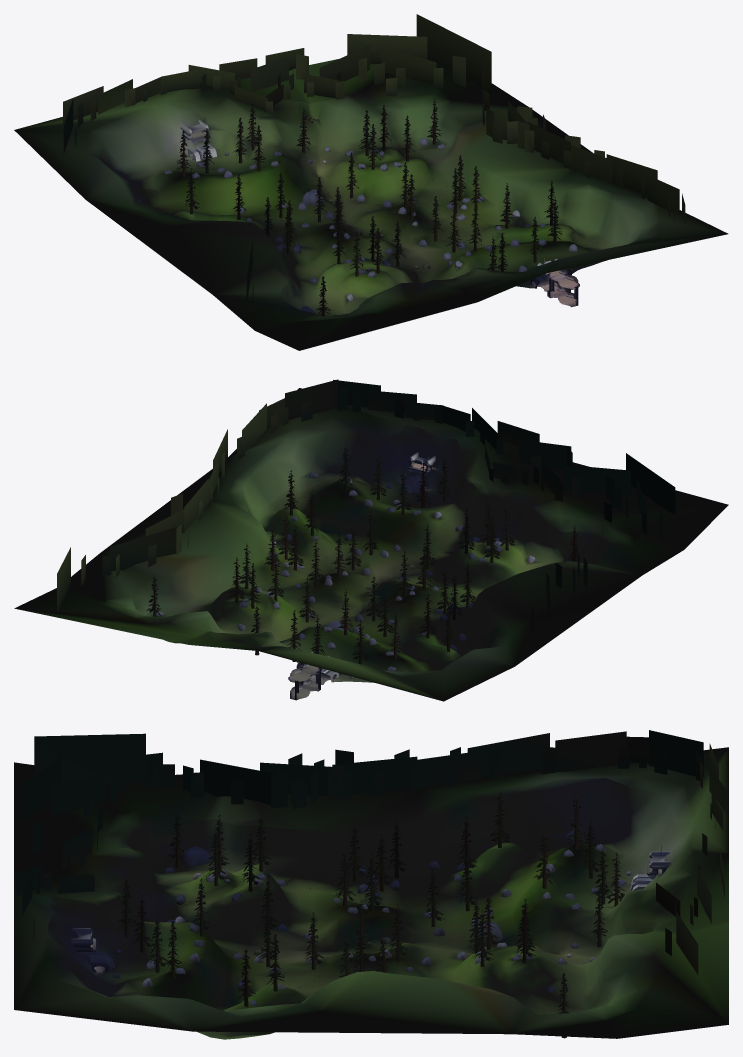
The model's file is TMB.glb.
The picture shows the model from 3 angles, top to bottom: view 1: azimuth 30°, elevation 25°; view 2: azimuth 150°, elevation 25°; view 3: azimuth 270°, elevation 25°; orthographic projection. The views are drawn at different scales.
Parts seen in each view (by area): view 1: TMB; view 2: TMB; view 3: TMB.
Part boxes in pixels (x1,y1,x2,y2): TMB: (14, 14, 728, 350); TMB: (14, 379, 728, 701); TMB: (14, 730, 728, 1039).
Bounding box in the file's own units: 351 × 67.44 × 404.
